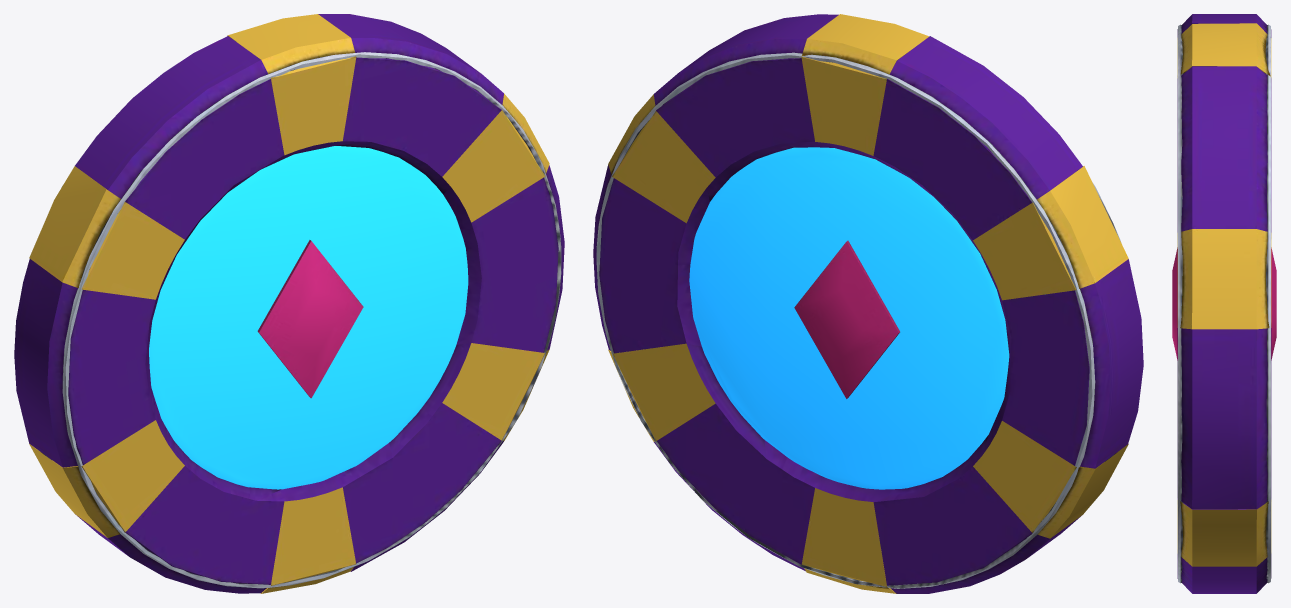
3 views of the same model, side by side, from view 1: azimuth 30°, elevation 25°; view 2: azimuth 150°, elevation 25°; view 3: azimuth 270°, elevation 25° (orthographic). The views are drawn at different scales.
Visible parts, largest first — view 1: Royal_Purple_Lacquer, glow_Electric_Blue_Acrylic, Polished_Gold_Inserts, Hot_Pink_Crystal, Mirrored_Chrome_Ring; view 2: Royal_Purple_Lacquer, glow_Electric_Blue_Acrylic, Polished_Gold_Inserts, Hot_Pink_Crystal, Mirrored_Chrome_Ring; view 3: Royal_Purple_Lacquer, Polished_Gold_Inserts, Mirrored_Chrome_Ring, Hot_Pink_Crystal.
Boxes of the visible parts, x1,y1,x2,y2 form: Royal_Purple_Lacquer: (14,14,564,593); glow_Electric_Blue_Acrylic: (149,146,468,489); Polished_Gold_Inserts: (29,14,549,593); Hot_Pink_Crystal: (257,240,363,398); Mirrored_Chrome_Ring: (43,39,561,588); Royal_Purple_Lacquer: (593,14,1143,593); glow_Electric_Blue_Acrylic: (689,147,1009,489); Polished_Gold_Inserts: (608,14,1128,593); Hot_Pink_Crystal: (794,240,899,398); Mirrored_Chrome_Ring: (596,52,1121,588); Royal_Purple_Lacquer: (1177,14,1271,593); Polished_Gold_Inserts: (1177,23,1271,566); Mirrored_Chrome_Ring: (1178,24,1270,583); Hot_Pink_Crystal: (1172,247,1276,360).
Bounding box in the file's own units: 0.9402 × 0.9402 × 0.1692.
5 materials, 4 textured.
